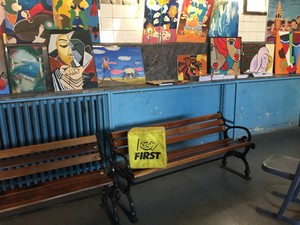cube: (128, 125, 167, 168)
